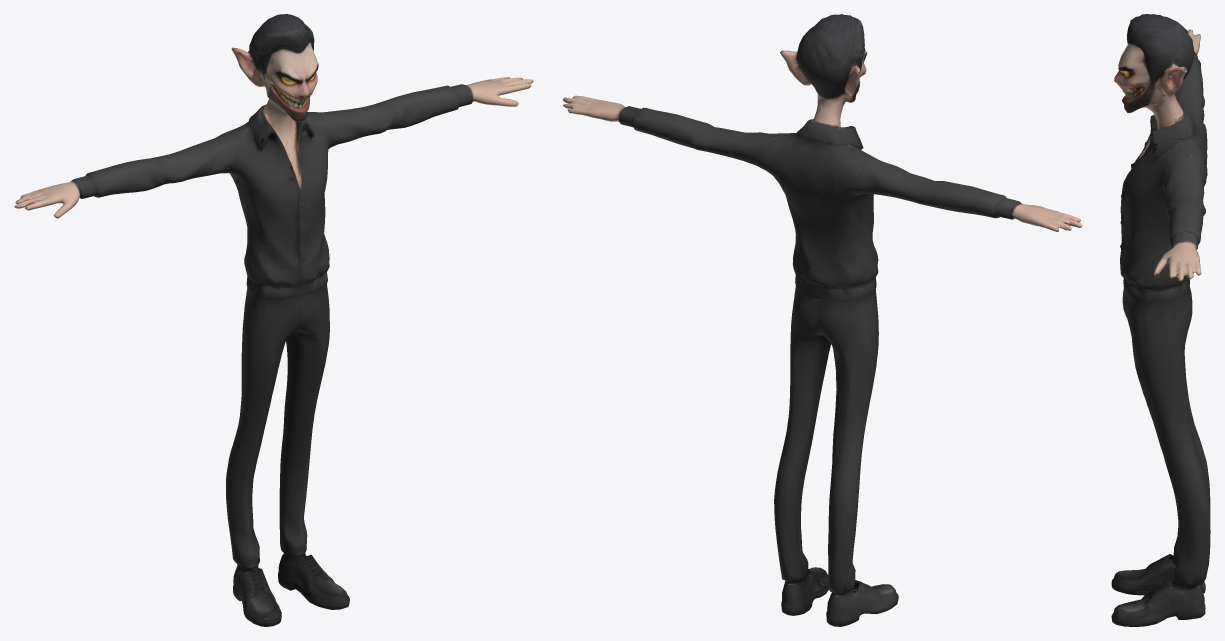
File: CalisanErkek2Canavar.fbx
3 renders of one model, left to right at view 1: azimuth 30°, elevation 25°; view 2: azimuth 150°, elevation 25°; view 3: azimuth 270°, elevation 25°, orthographic.
Visible parts, largest first — view 1: Mesh_0; view 2: Mesh_0; view 3: Mesh_0.
Boxes of the visible parts, x1=… form: Mesh_0: x1=14, y1=14, x2=533, y2=626; Mesh_0: x1=563, y1=14, x2=1082, y2=626; Mesh_0: x1=1111, y1=14, x2=1210, y2=626.
Bounding box in the file's own units: 177 × 191 × 29.28.
Materials: 1 (1 with a texture image).
